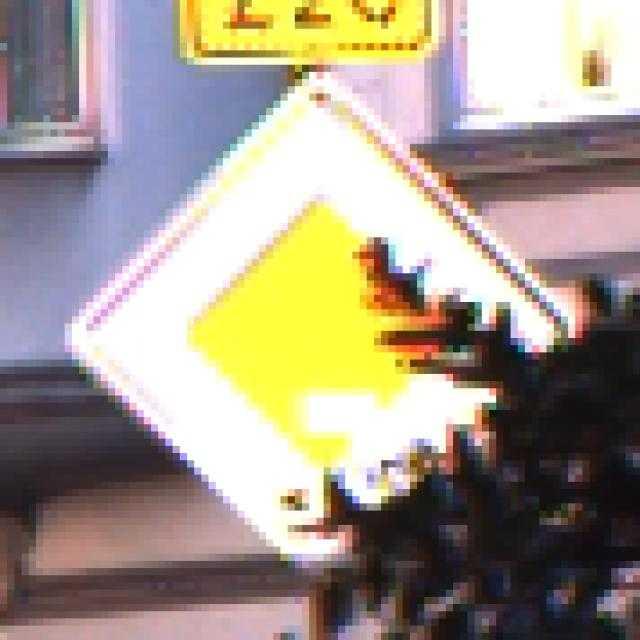Main Road: (59, 59, 591, 591)
